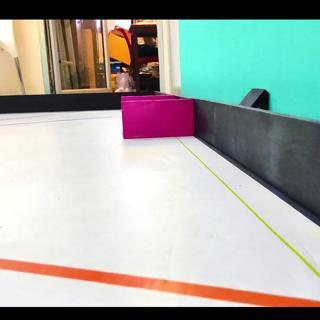xparking: (123, 103, 192, 136)
